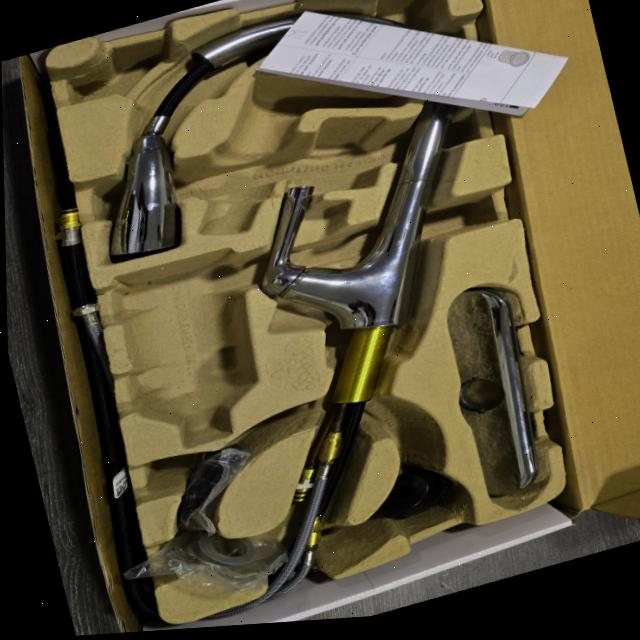1o: (110, 9, 474, 594)
2m: (200, 68, 411, 234)
3m: (114, 247, 260, 450)
4: (448, 289, 535, 496)
5: (378, 468, 450, 515)
6: (124, 534, 291, 595)
7: (175, 444, 251, 533)
8: (255, 11, 568, 116)
